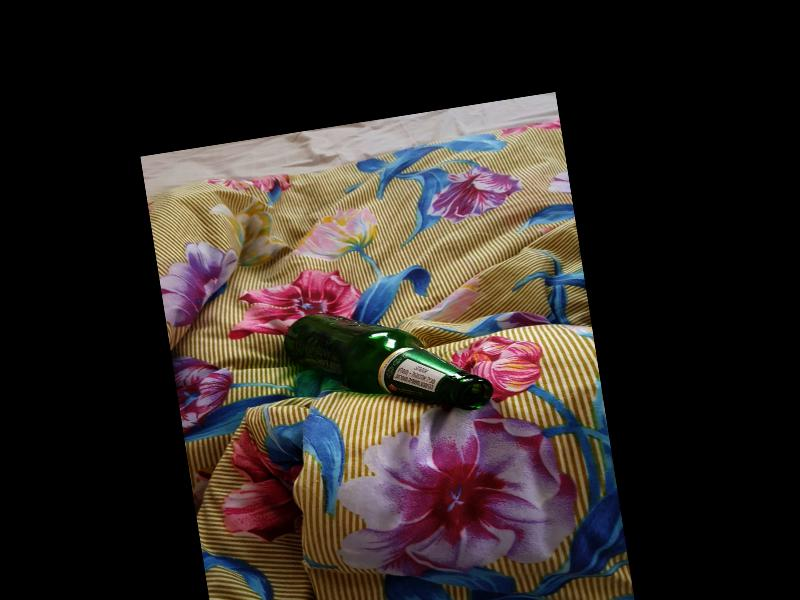Beer: (282, 289, 494, 437)
